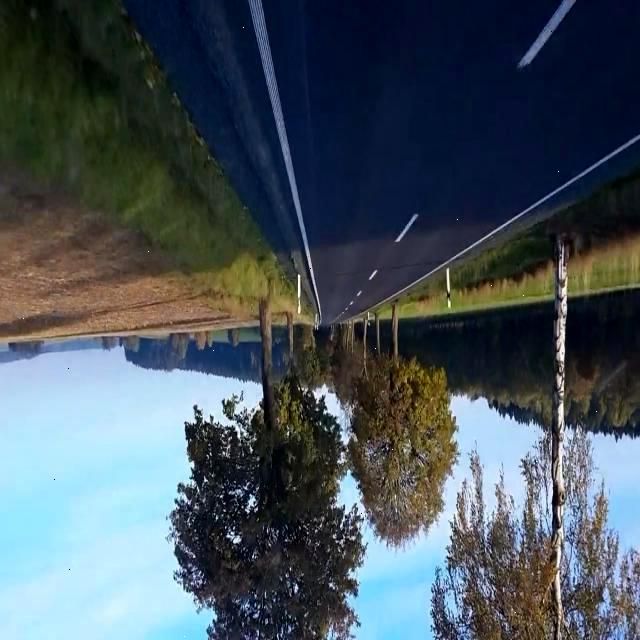lane: (370, 132, 639, 308), (249, 1, 319, 309), (518, 1, 576, 69), (396, 213, 419, 242)
road: (263, 1, 640, 324)
